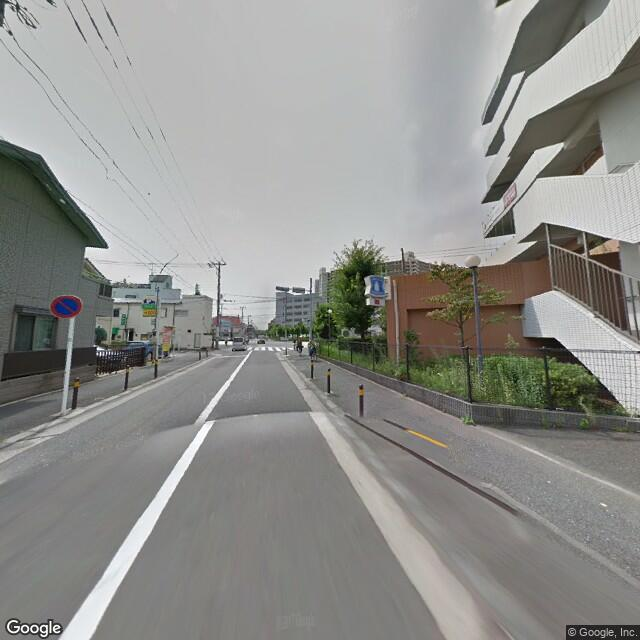lawson: (366, 272, 387, 302)
